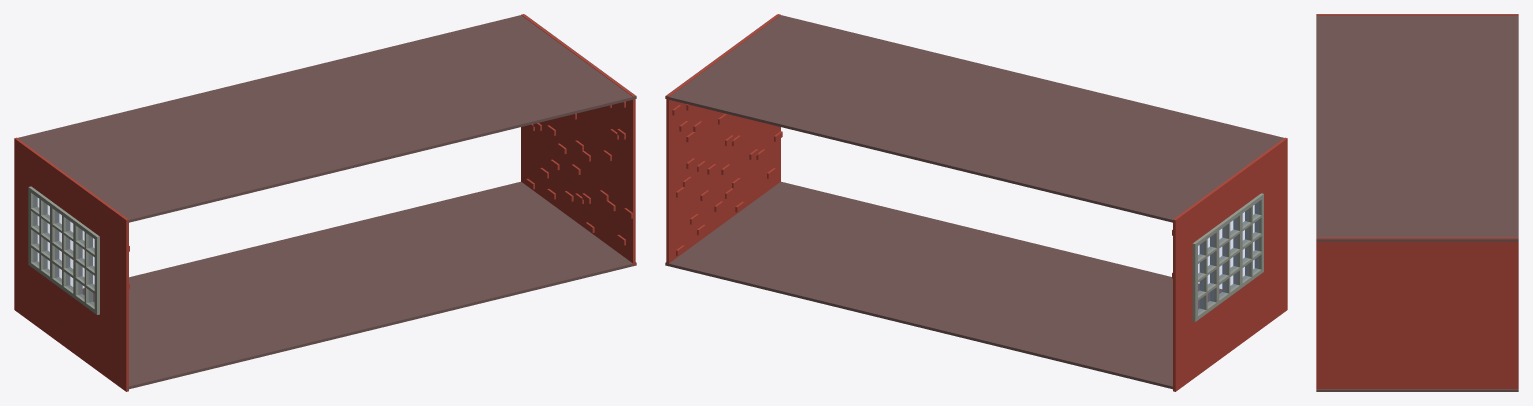
File: seinad ilma tagumistea.fbx
3 views of the same model, side by side, from view 1: azimuth 30°, elevation 25°; view 2: azimuth 150°, elevation 25°; view 3: azimuth 270°, elevation 25° (orthographic). The views are drawn at different scales.
Parts seen in each view (by area): view 1: lagi, põrand, paremsein, vasaksein, aken, klaas; view 2: lagi, põrand, paremsein, vasaksein, aken, klaas; view 3: lagi, vasaksein, põrand, paremsein.
Boxes of the visible parts, x1=… form: lagi: x1=18, y1=14, x2=636, y2=222; põrand: x1=82, y1=181, x2=636, y2=389; paremsein: x1=14, y1=137, x2=129, y2=391; vasaksein: x1=521, y1=14, x2=635, y2=265; aken: x1=28, y1=186, x2=99, y2=314; klaas: x1=33, y1=195, x2=94, y2=305; lagi: x1=665, y1=14, x2=1283, y2=222; põrand: x1=665, y1=181, x2=1222, y2=389; paremsein: x1=1172, y1=137, x2=1287, y2=391; vasaksein: x1=666, y1=14, x2=782, y2=263; aken: x1=1192, y1=193, x2=1263, y2=321; klaas: x1=1198, y1=202, x2=1258, y2=312; lagi: x1=1316, y1=15, x2=1518, y2=241; vasaksein: x1=1316, y1=237, x2=1518, y2=388; põrand: x1=1316, y1=389, x2=1518, y2=391; paremsein: x1=1316, y1=14, x2=1518, y2=15.
Size of the model in its own units: 2642 by 844 by 999.
